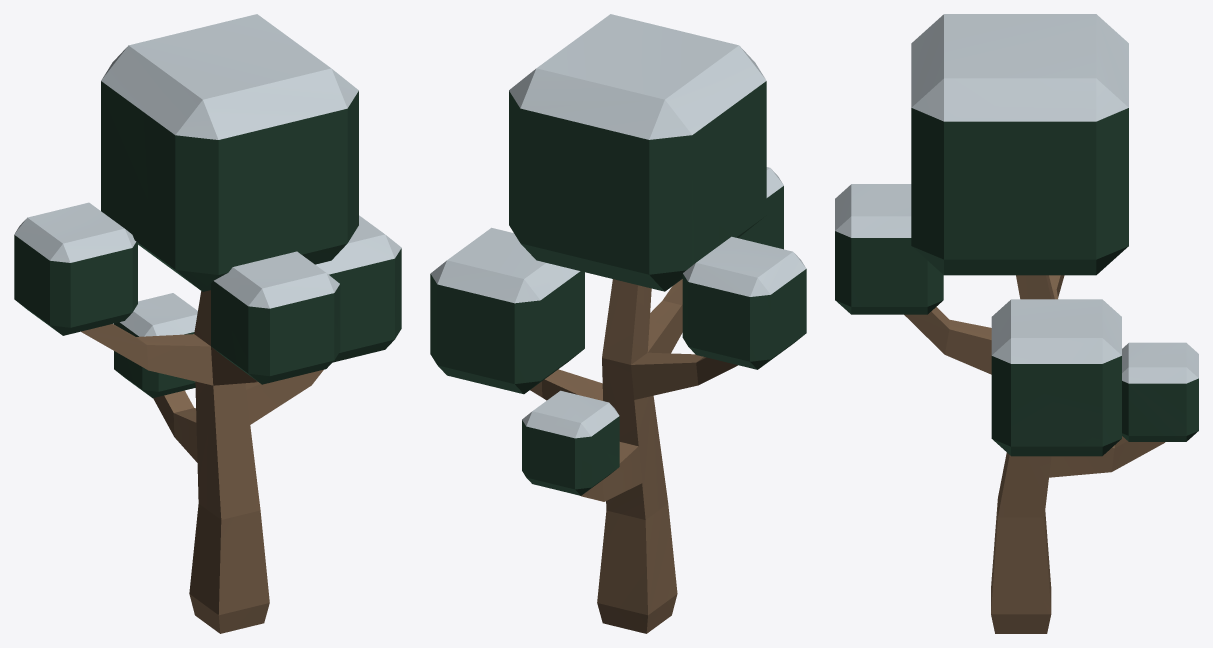
The model's file is tree_detailed.glb.
3 views of the same model, side by side, from view 1: azimuth 30°, elevation 25°; view 2: azimuth 150°, elevation 25°; view 3: azimuth 270°, elevation 25° (orthographic). The views are drawn at different scales.
Parts seen in each view (by area): view 1: tree_detailed; view 2: tree_detailed; view 3: tree_detailed.
Part boxes in pixels (left/top/right/bottom): tree_detailed: left=14, top=14, right=401, bottom=633; tree_detailed: left=430, top=14, right=806, bottom=633; tree_detailed: left=835, top=14, right=1198, bottom=633.
Bounding box in the file's own units: 0.8471 × 1.33 × 0.7616.
